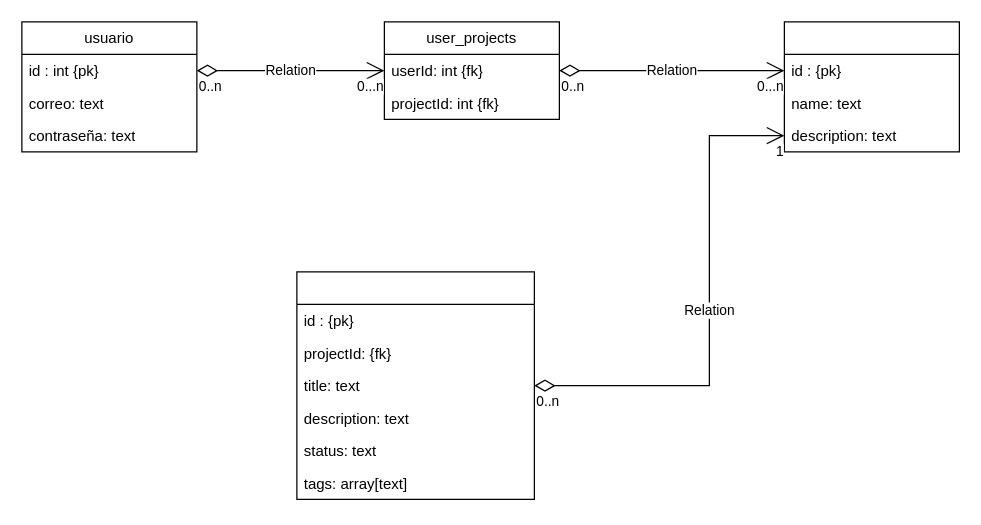
This 981x525 diagram has some shape labels left out. Each missing label, with the box of its shape:
issues: (296, 271, 534, 499)
projects: (783, 21, 959, 152)
